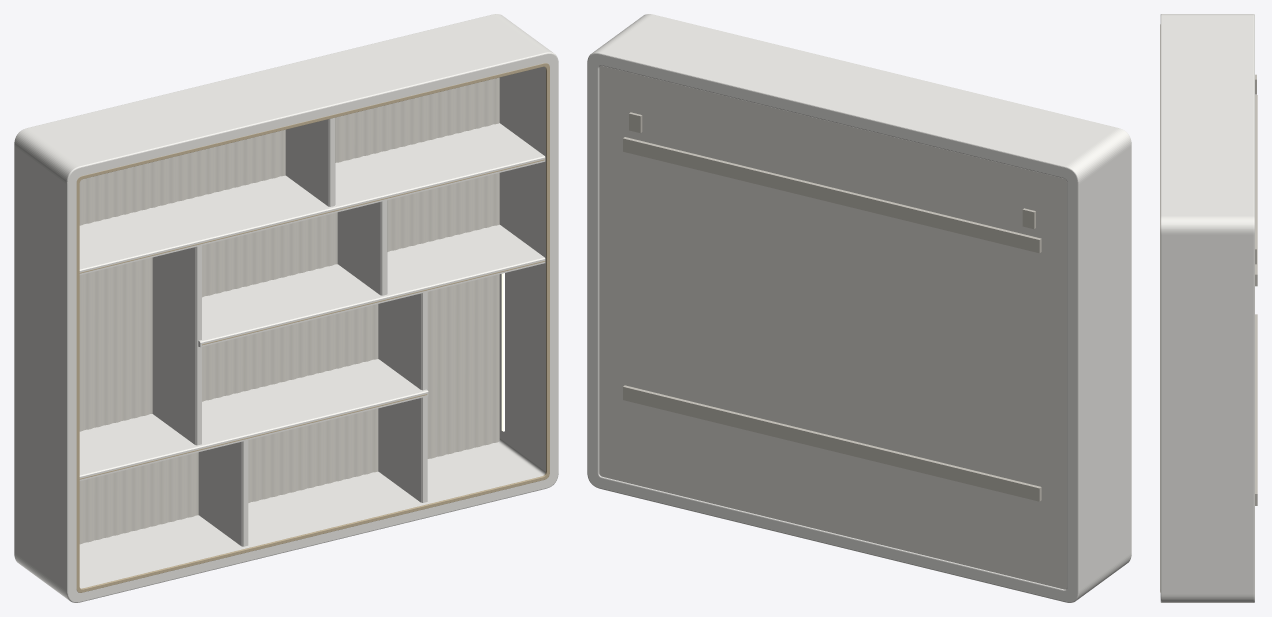
Rendered from bookshelf_minimal_white.glb.
3 renders of one model, left to right at view 1: azimuth 30°, elevation 25°; view 2: azimuth 150°, elevation 25°; view 3: azimuth 270°, elevation 25°, orthographic. The views are drawn at different scales.
Parts seen in each view (by area): view 1: Modern_White_Fluted_Illuminated_Bookshelf; view 2: Modern_White_Fluted_Illuminated_Bookshelf; view 3: Modern_White_Fluted_Illuminated_Bookshelf.
Boxes of the visible parts, bbox=[...] form: Modern_White_Fluted_Illuminated_Bookshelf: bbox=[14, 14, 558, 602]; Modern_White_Fluted_Illuminated_Bookshelf: bbox=[587, 14, 1131, 602]; Modern_White_Fluted_Illuminated_Bookshelf: bbox=[1160, 14, 1257, 602].
Bounding box in the file's own units: 1.7 × 1.44 × 0.3295.
